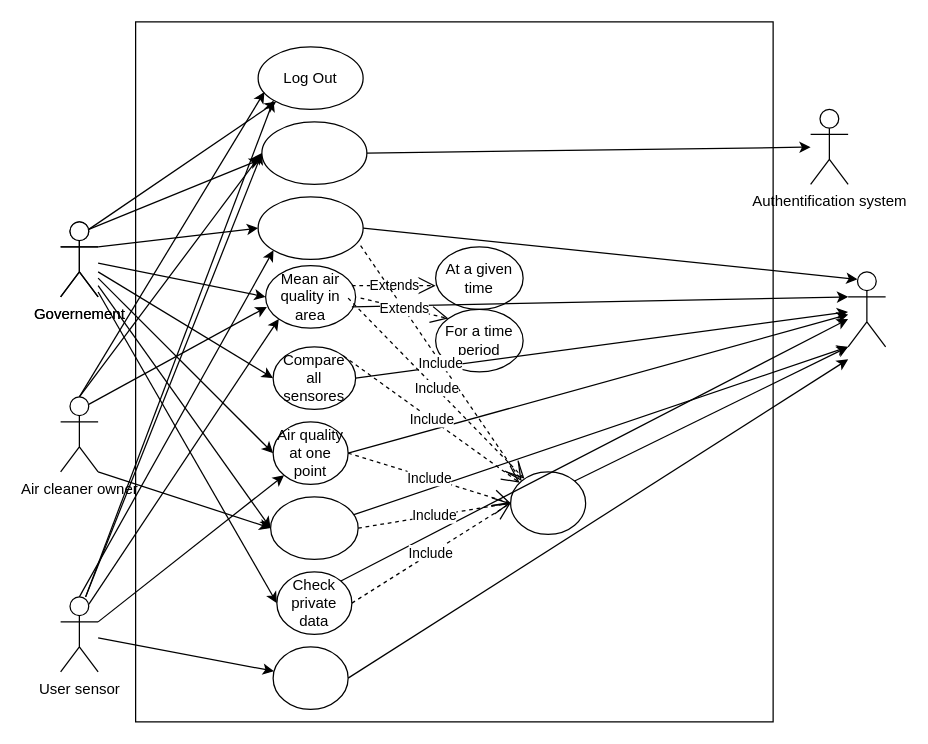
Image size: 928x744. Some labels were removed from this diagram. Each missing label, with the box of its shape:
Analyse one sensor's data: (257, 196, 363, 259)
Award points: (509, 471, 586, 534)
DB: (847, 271, 886, 347)
Log In: (261, 121, 367, 184)
Sensor points: (272, 646, 348, 709)
Study air cleaners: (269, 496, 358, 559)
